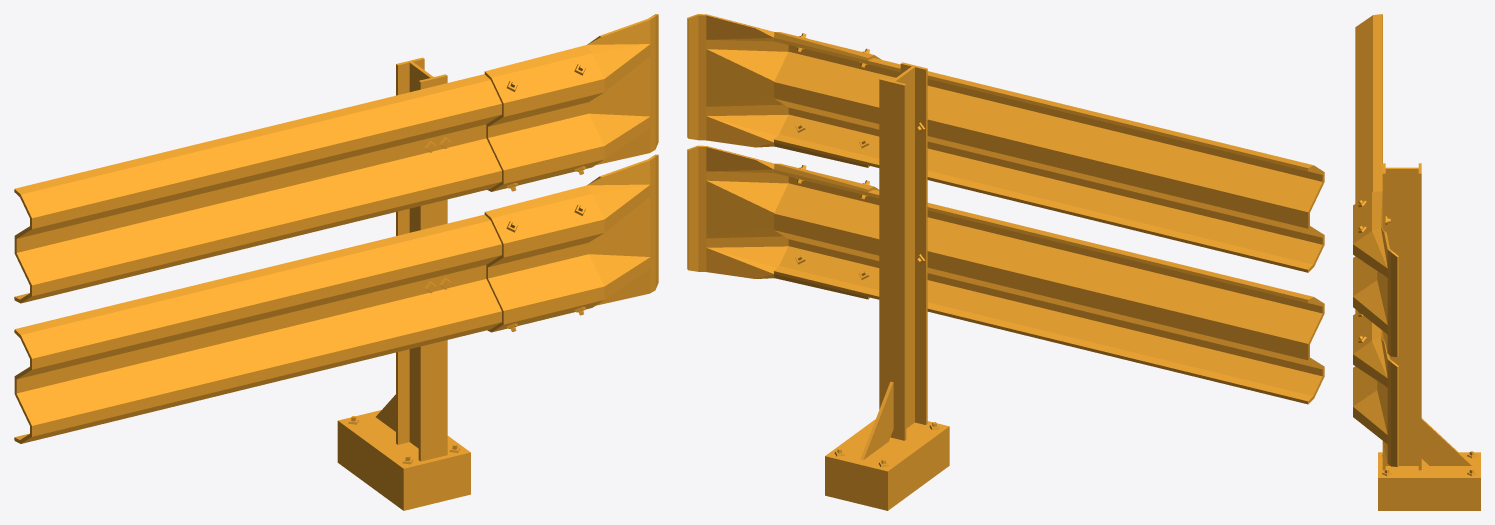
File: SM_Fence_Road_WBeam_Double_Metal_2m_End.fbx
3 renders of one model, left to right at view 1: azimuth 30°, elevation 25°; view 2: azimuth 150°, elevation 25°; view 3: azimuth 270°, elevation 25°, orthographic. The views are drawn at different scales.
Parts seen in each view (by area): view 1: SM_Fence_Road_WBeam_Double_Metal_2m_End; view 2: SM_Fence_Road_WBeam_Double_Metal_2m_End; view 3: SM_Fence_Road_WBeam_Double_Metal_2m_End.
Boxes of the visible parts, x1,y1,x2,y2 form: SM_Fence_Road_WBeam_Double_Metal_2m_End: (14,14,658,510); SM_Fence_Road_WBeam_Double_Metal_2m_End: (687,14,1324,510); SM_Fence_Road_WBeam_Double_Metal_2m_End: (1353,14,1480,510).
Bounding box in the file's own units: 1.95 × 1.21 × 0.422.
